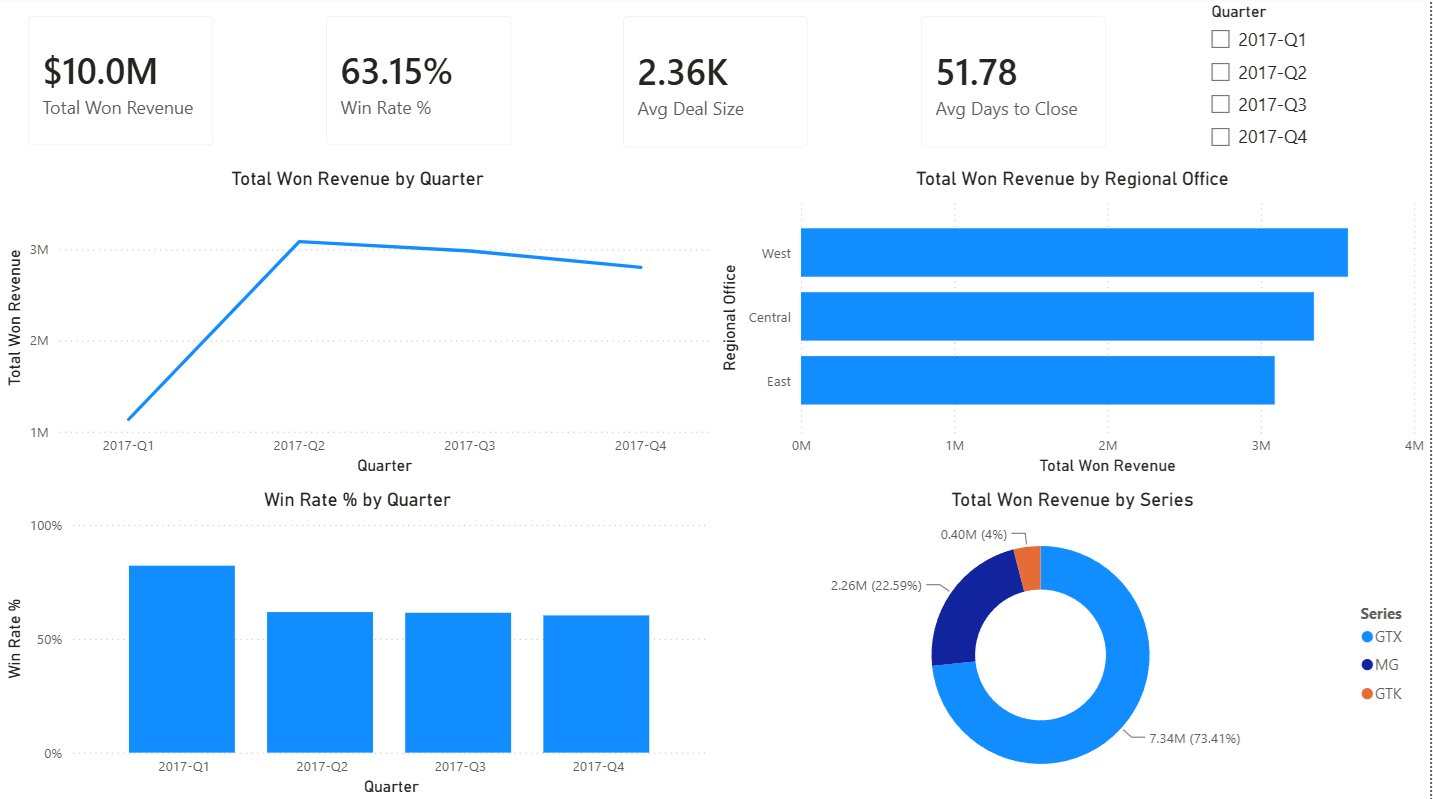

Layout of this report page (visuals, bound fields, positions):
{"tool":"powerbi","page":{"name":"Executive Summary","canvas":[1280,720],"ordinal":0},"visuals":[{"type":"cardVisual","fields":{"Data":["_Measures.Total Won Revenue"]},"box":[8,0,200,150],"z":0},{"type":"cardVisual","fields":{"Data":["_Measures.Win Rate %"]},"box":[274.7,0,200,150],"z":1000},{"type":"cardVisual","fields":{"Data":["_Measures.Avg Deal Size"]},"box":[541.3,0,200,152],"z":2000},{"type":"cardVisual","fields":{"Data":["_Measures.Avg Days to Close"]},"box":[808,0,200,152],"z":3000},{"type":"lineChart","fields":{"Category":["sales_pipeline.Quarter"],"Y":["_Measures.Total Won Revenue"]},"box":[0,152,640,280],"z":4000},{"type":"clusteredBarChart","fields":{"Category":["sales_teams.regional_office"],"Y":["_Measures.Total Won Revenue"]},"box":[640,152,640,280],"z":5000},{"type":"slicer","fields":{"Values":["sales_pipeline.Quarter"]},"box":[1072,0,208,152],"z":6000},{"type":"clusteredColumnChart","fields":{"Category":["sales_pipeline.Quarter"],"Y":["_Measures.Win Rate %"]},"box":[0,440,640,280],"z":7000},{"type":"donutChart","fields":{"Category":["products.series"],"Y":["_Measures.Total Won Revenue"]},"box":[640,440,640,280],"z":8000}]}

Visuals, with their boxes in screenshot pixels (x1, y1, x2, y2), scaled from the page's 1280x720 canvas onto the 1433x799 screenshot:
cardVisual - _Measures.Total Won Revenue: (left=9, top=0, right=233, bottom=166)
cardVisual - _Measures.Win Rate %: (left=308, top=0, right=531, bottom=166)
cardVisual - _Measures.Avg Deal Size: (left=606, top=0, right=830, bottom=169)
cardVisual - _Measures.Avg Days to Close: (left=905, top=0, right=1128, bottom=169)
lineChart - sales_pipeline.Quarter x _Measures.Total Won Revenue: (left=0, top=169, right=716, bottom=479)
clusteredBarChart - sales_teams.regional_office x _Measures.Total Won Revenue: (left=716, top=169, right=1432, bottom=479)
slicer - sales_pipeline.Quarter: (left=1200, top=0, right=1432, bottom=169)
clusteredColumnChart - sales_pipeline.Quarter x _Measures.Win Rate %: (left=0, top=488, right=716, bottom=798)
donutChart - products.series x _Measures.Total Won Revenue: (left=716, top=488, right=1432, bottom=798)
